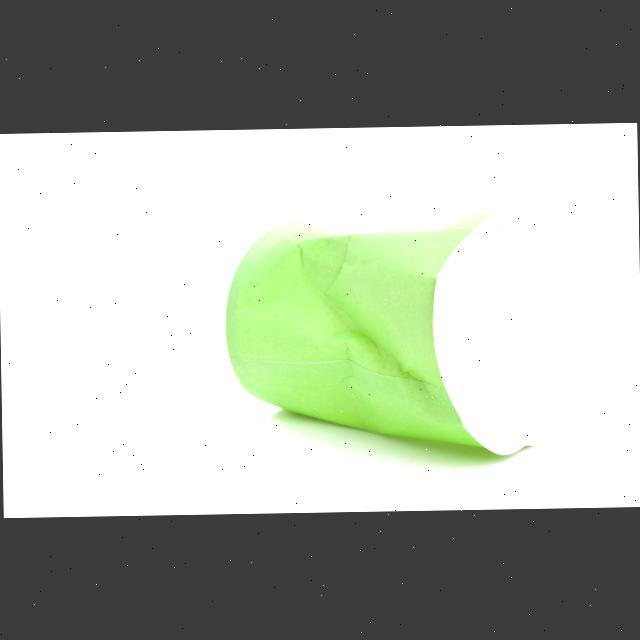trash: (218, 191, 594, 464)
